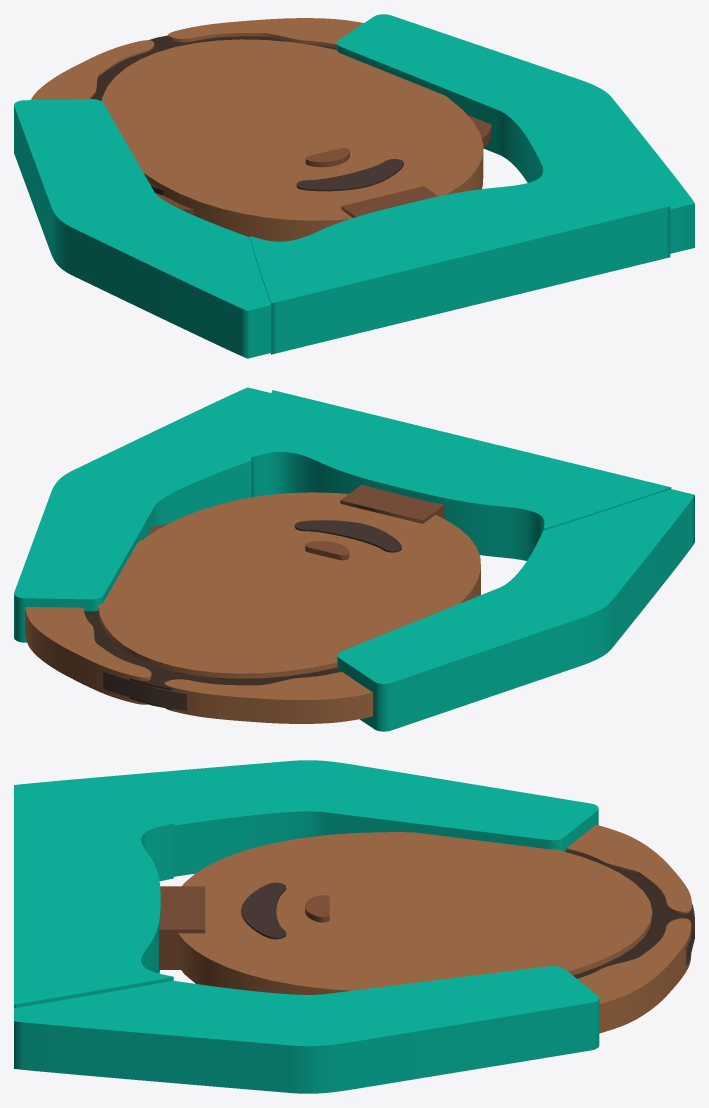
File: emoji_u1f646_1f3fe_200d_2642.glb
The picture shows the model from 3 angles, top to bottom: view 1: azimuth 30°, elevation 25°; view 2: azimuth 150°, elevation 25°; view 3: azimuth 270°, elevation 25°; orthographic projection. The views are drawn at different scales.
Parts seen in each view (by area): view 1: emoji_u1f646_1f3fe_200d_2642; view 2: emoji_u1f646_1f3fe_200d_2642; view 3: emoji_u1f646_1f3fe_200d_2642.
Part boxes in pixels (box(x1,y1,x2,y2)): emoji_u1f646_1f3fe_200d_2642: box(14, 14, 694, 358); emoji_u1f646_1f3fe_200d_2642: box(14, 387, 694, 731); emoji_u1f646_1f3fe_200d_2642: box(14, 760, 694, 1093).
Size of the model in its own units: 0.0333 by 0.003 by 0.0337.
